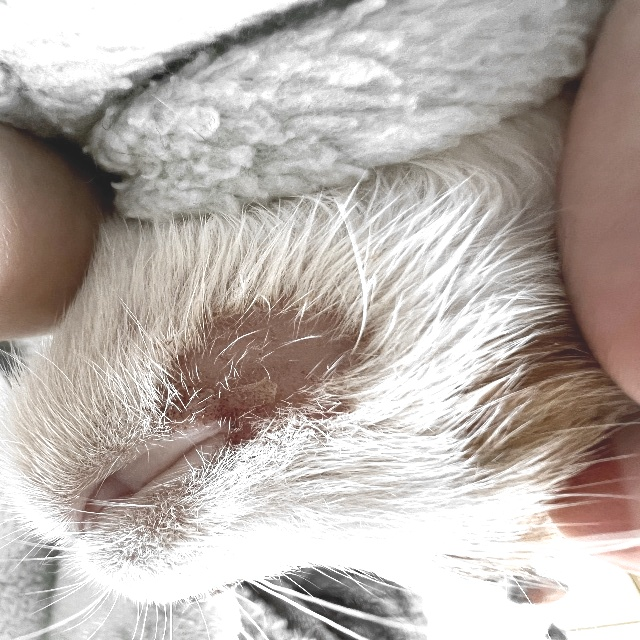ringworm: (168, 311, 379, 429)
